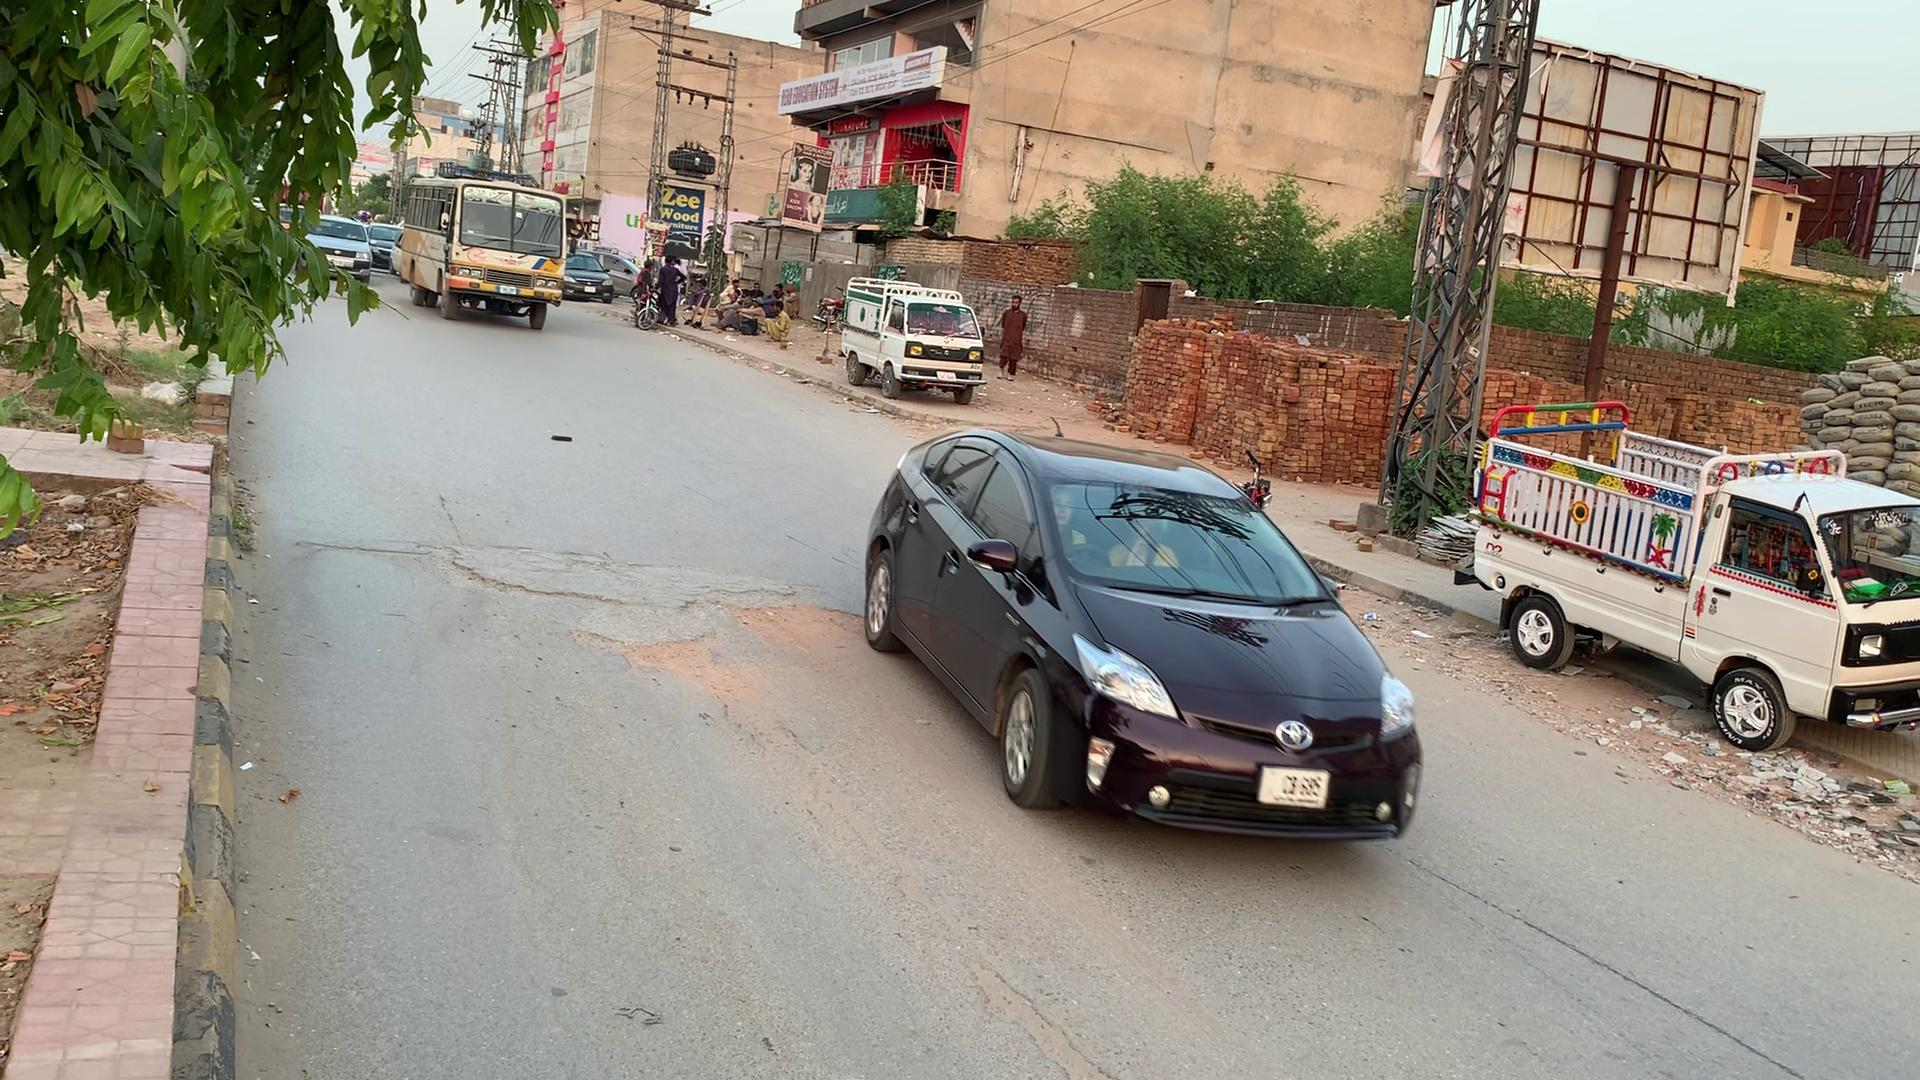windshield: (1034, 469, 1342, 604)
